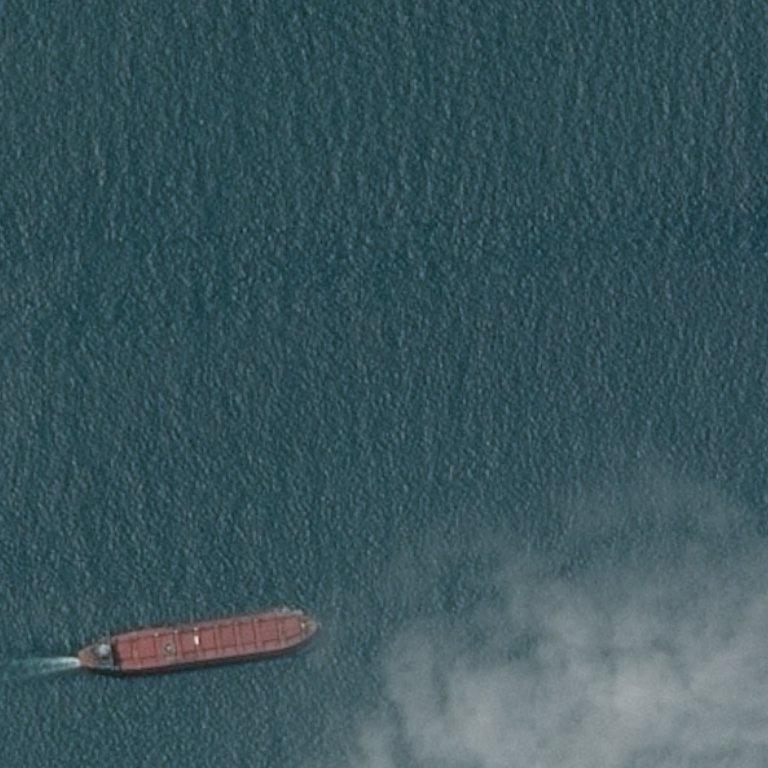ship: (72, 610, 324, 675), (305, 618, 323, 635), (76, 661, 89, 669), (74, 647, 86, 655)
